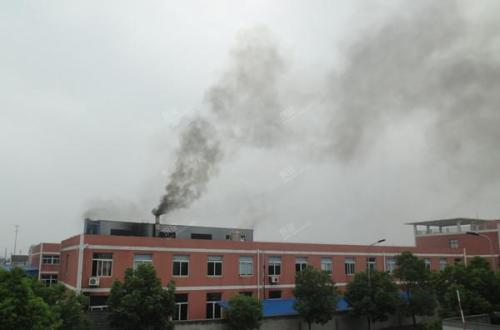smoke: (151, 101, 230, 216)
